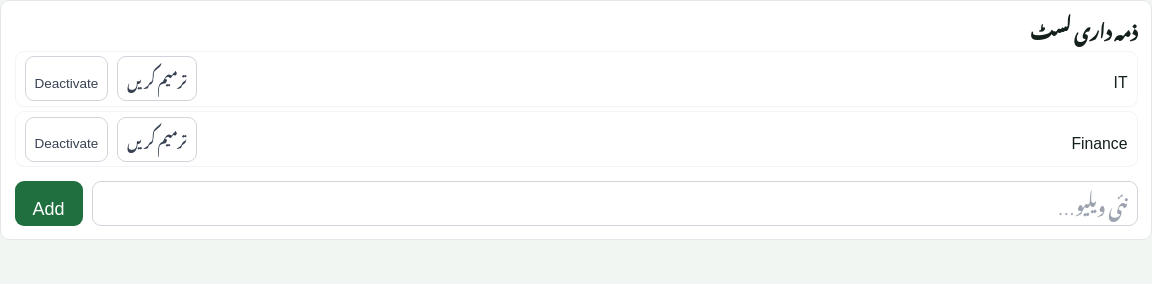
it: LookupListPanel (Phase 10.5 §1 placement decision, docs/09-frontend-features.md §10) › a duplicate value (409) shows an inline error under the add-value input, not just a toast
The width and height of the screenshot is (1152, 284).
Check: the text "IT" is shown, box x1=1114 y1=58 x2=1128 y2=97
Type "IT" into the field named "نئی ذمہ داری" at (614, 203), box x1=92 y1=180 x2=1138 y2=226
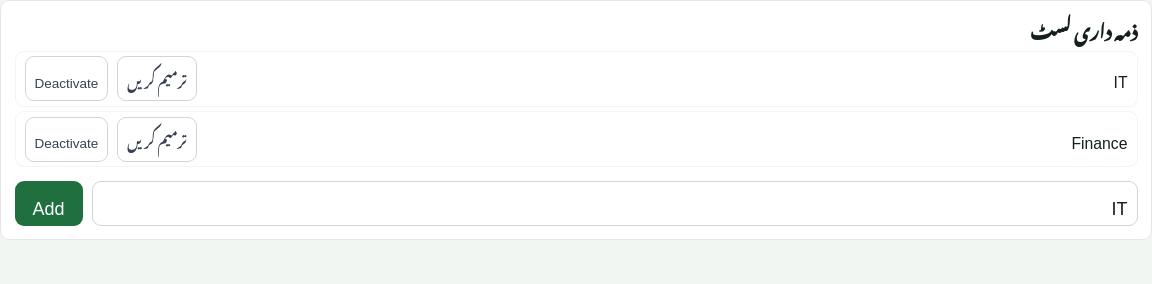
Click the button "Add" at (48, 203), box x1=14 y1=180 x2=82 y2=226
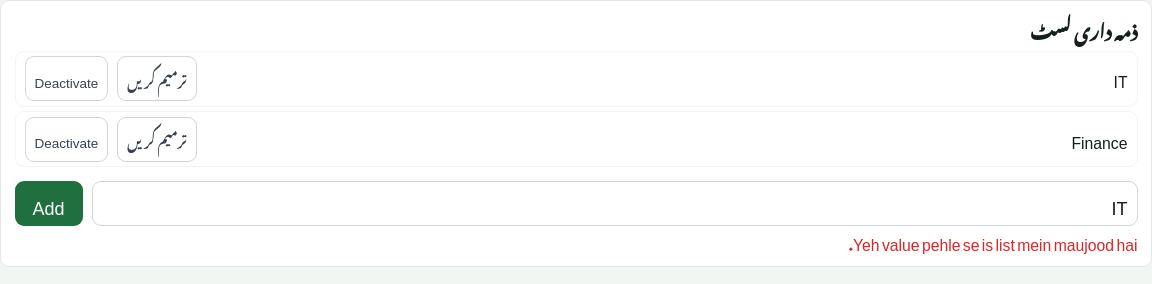
Check: the text "Yeh value pehle se is list mein maujood hai." is shown, box x1=848 y1=221 x2=1138 y2=260
